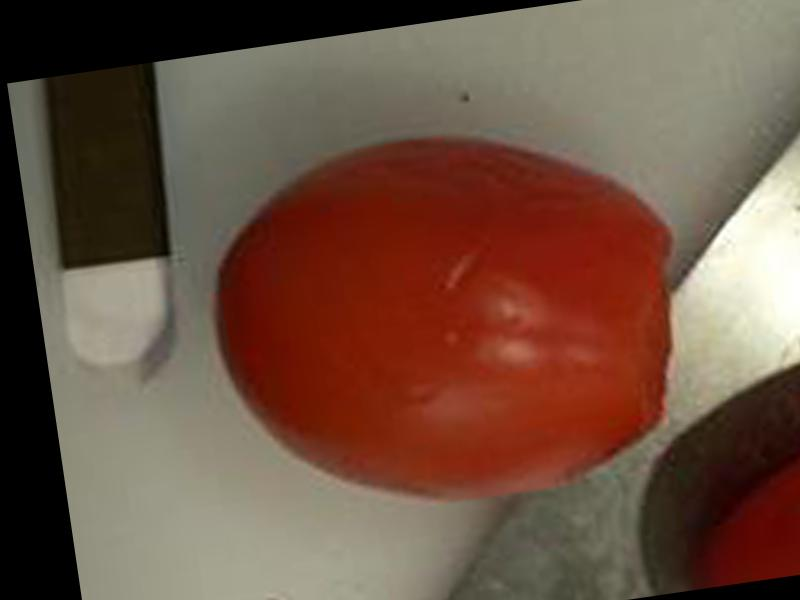Tomato: (192, 104, 703, 535)
